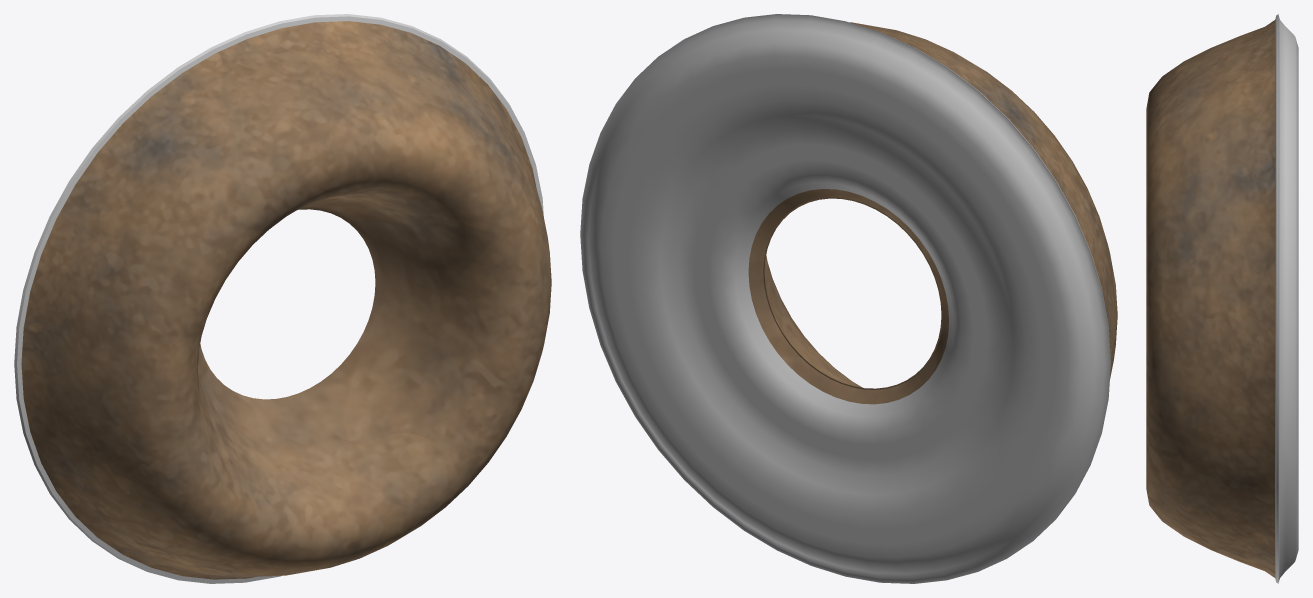
File: Island.dae
The picture shows the model from 3 angles, left to right: view 1: azimuth 30°, elevation 25°; view 2: azimuth 150°, elevation 25°; view 3: azimuth 270°, elevation 25°; orthographic projection. The views are drawn at different scales.
Visible parts, largest first — view 1: Island; view 2: Island; view 3: Island.
Part boxes in pixels (<box>): Island: <box>14,14,551,583</box>; Island: <box>580,14,1117,583</box>; Island: <box>1146,14,1298,583</box>.
Size of the model in its own units: 6 by 1.6 by 6.
